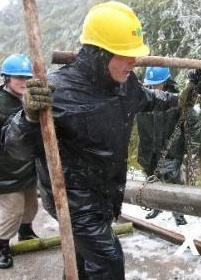boots: (17, 223, 39, 240), (145, 208, 162, 219)
gloves: (21, 77, 54, 122), (178, 81, 198, 108)
hard-hat: (78, 0, 150, 57)
ppe-suit: (1, 43, 189, 279)
